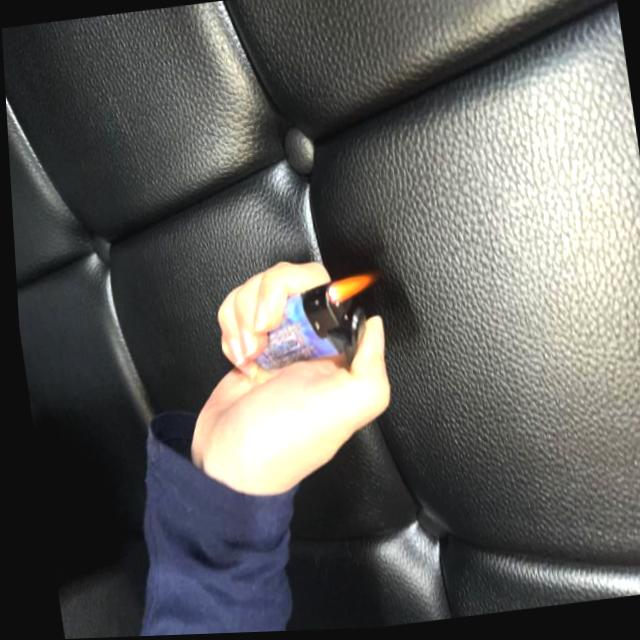Fire: (323, 273, 374, 310)
